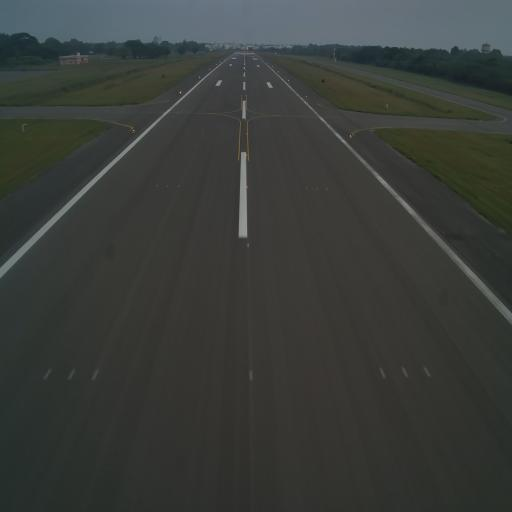off: (40, 360, 52, 384), (65, 364, 78, 386), (375, 360, 388, 382), (399, 360, 410, 384), (423, 359, 433, 382), (90, 366, 101, 383), (154, 181, 160, 190), (324, 184, 330, 192), (304, 184, 309, 193), (315, 184, 320, 193), (166, 182, 170, 189), (176, 183, 180, 190), (282, 132, 286, 139), (187, 130, 190, 136), (201, 130, 204, 136), (296, 133, 299, 139), (290, 132, 292, 140), (194, 131, 197, 136)
on: (246, 366, 256, 385), (246, 238, 250, 250), (131, 128, 136, 135), (349, 132, 353, 140), (245, 184, 249, 190), (244, 118, 248, 124), (245, 131, 248, 138), (245, 153, 248, 159)
